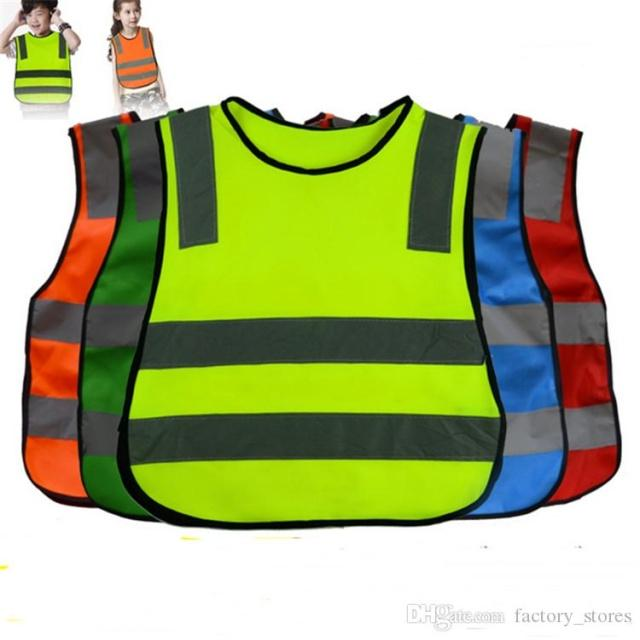vest: (119, 121, 509, 640), (20, 141, 142, 640), (501, 152, 623, 640), (456, 141, 568, 640), (79, 139, 187, 640), (12, 42, 73, 142), (110, 30, 159, 119)
